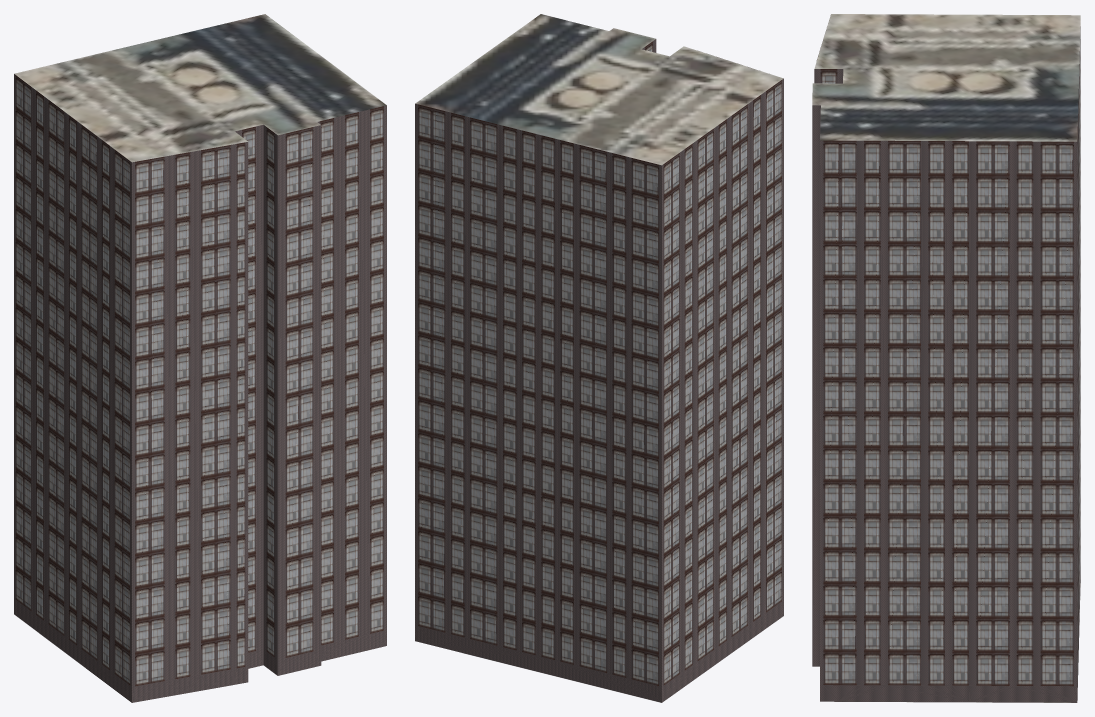
File: building11.fbx
3 views of the same model, side by side, from view 1: azimuth 30°, elevation 25°; view 2: azimuth 150°, elevation 25°; view 3: azimuth 270°, elevation 25° (orthographic). The views are drawn at different scales.
Visible parts, largest first — view 1: Object.1488, geometryt040100010000000110110100010110110100110st34, geometryt040100010000000110110100010110110100110st35; view 2: Object.1488, geometryt040100010000000110110100010110110100110st34, geometryt040100010000000110110100010110110100110st35; view 3: Object.1488, geometryt040100010000000110110100010110110100110st34, geometryt040100010000000110110100010110110100110st35.
Boxes of the visible parts, x1=… form: Object.1488: x1=15, y1=75, x2=383, y2=686; geometryt040100010000000110110100010110110100110st34: x1=14, y1=74, x2=386, y2=702; geometryt040100010000000110110100010110110100110st35: x1=14, y1=14, x2=386, y2=162; Object.1488: x1=418, y1=41, x2=781, y2=685; geometryt040100010000000110110100010110110100110st34: x1=415, y1=39, x2=783, y2=702; geometryt040100010000000110110100010110110100110st35: x1=415, y1=14, x2=783, y2=165; Object.1488: x1=816, y1=26, x2=1080, y2=686; geometryt040100010000000110110100010110110100110st34: x1=812, y1=44, x2=1080, y2=702; geometryt040100010000000110110100010110110100110st35: x1=812, y1=14, x2=1080, y2=702.
Size of the model in its own units: 2987 by 6120 by 2654.
3 materials, 3 textured.
